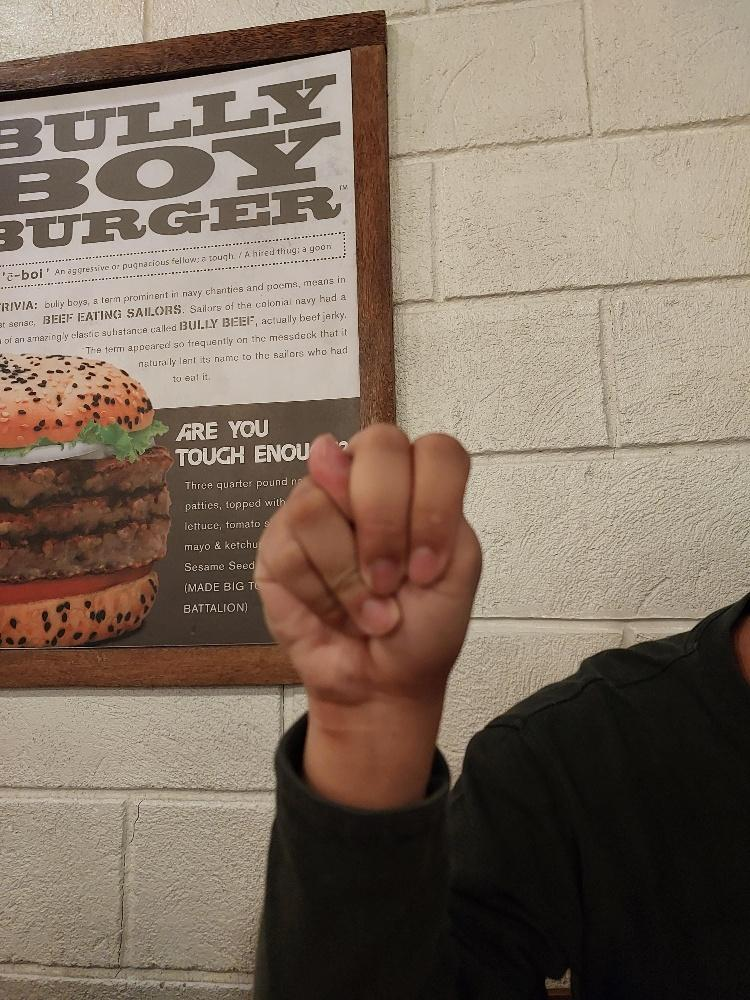n: (251, 418, 485, 704)
